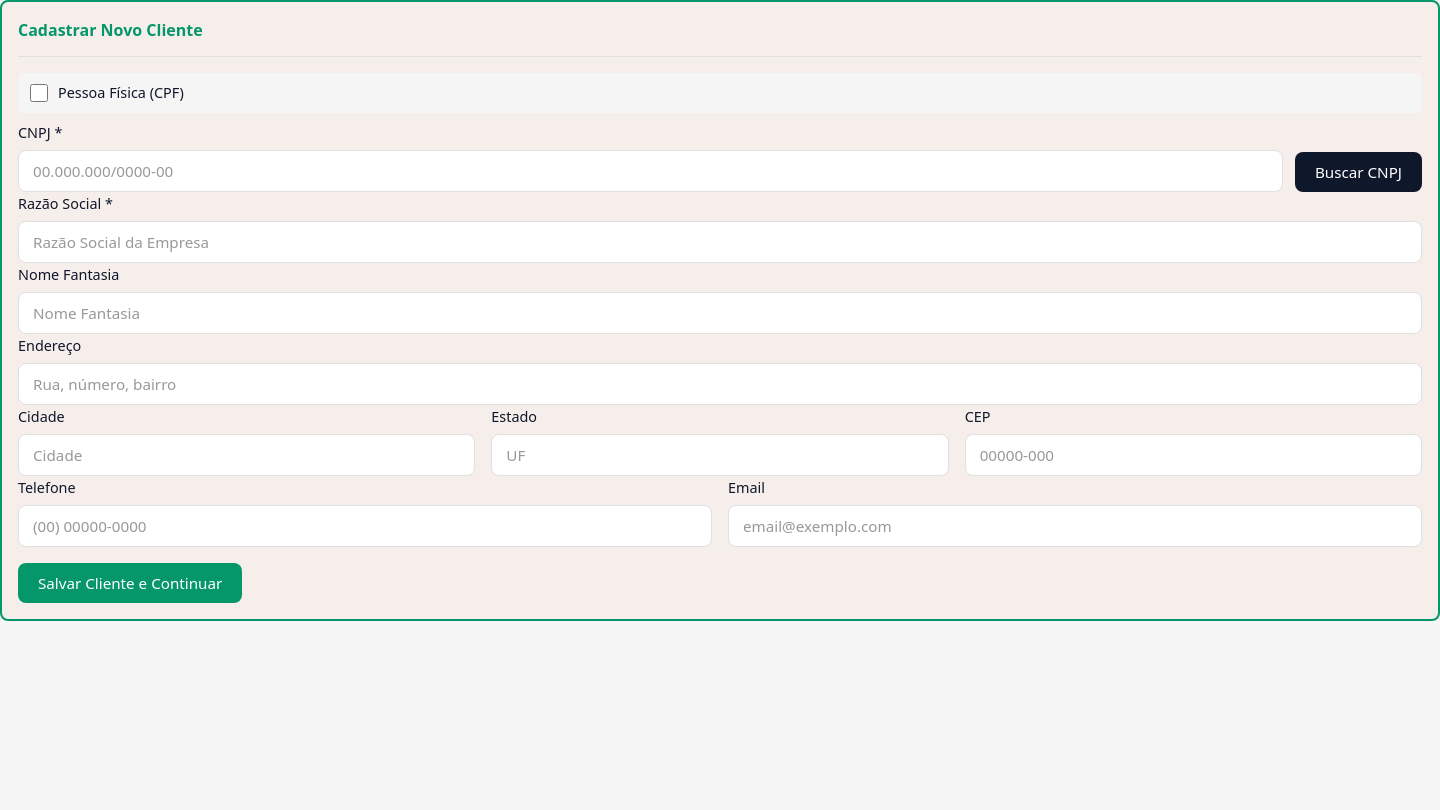
Test: NovoClienteForm › Buscar CNPJ › deve buscar e preencher dados do CNPJ em maiusculas
Type "12345678000190" into the field labelled "CNPJ *" at x=650, y=171, box top-left (18, 150), bottom-right (1283, 192)
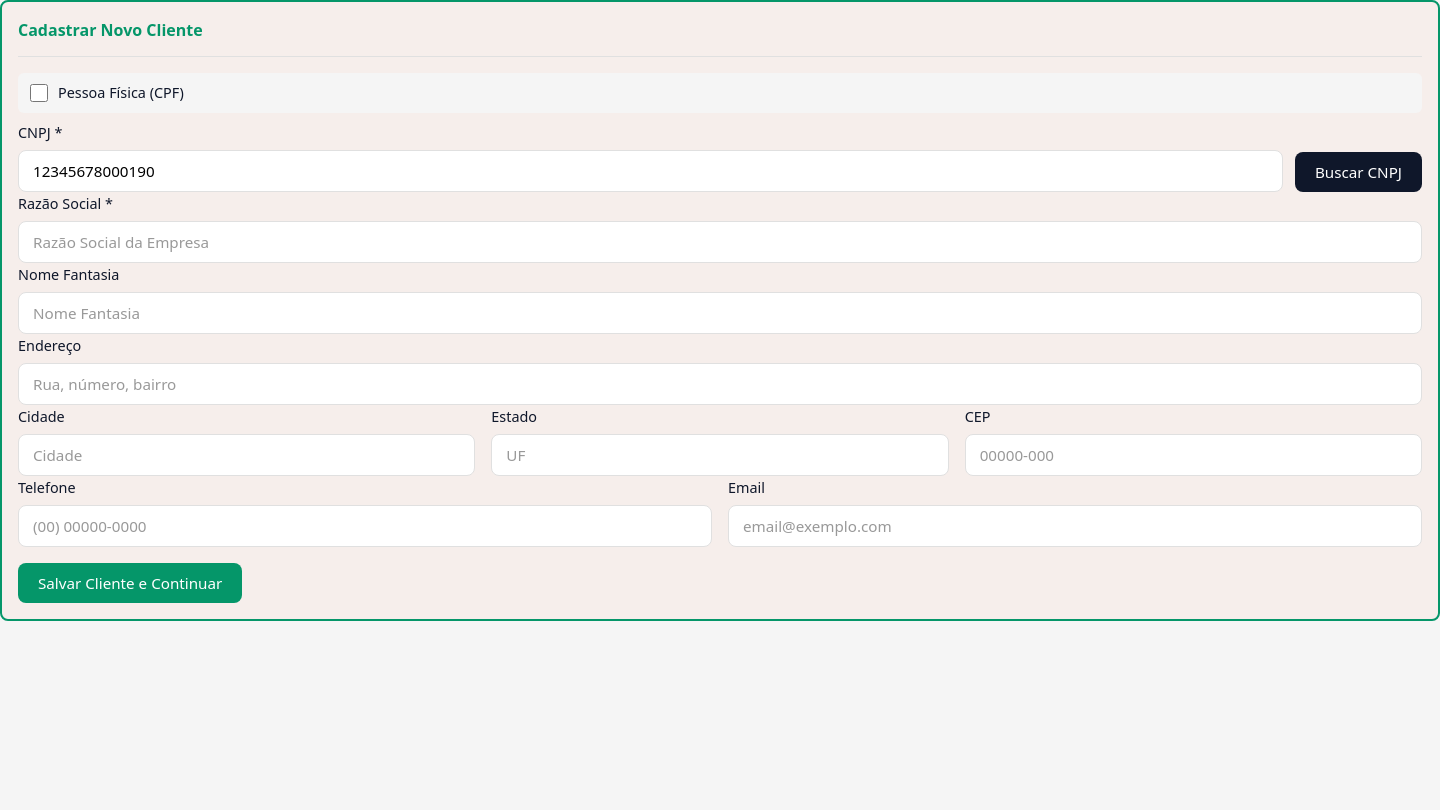
Click the button "Buscar CNPJ" at x=1358, y=172, box top-left (1295, 152), bottom-right (1422, 192)
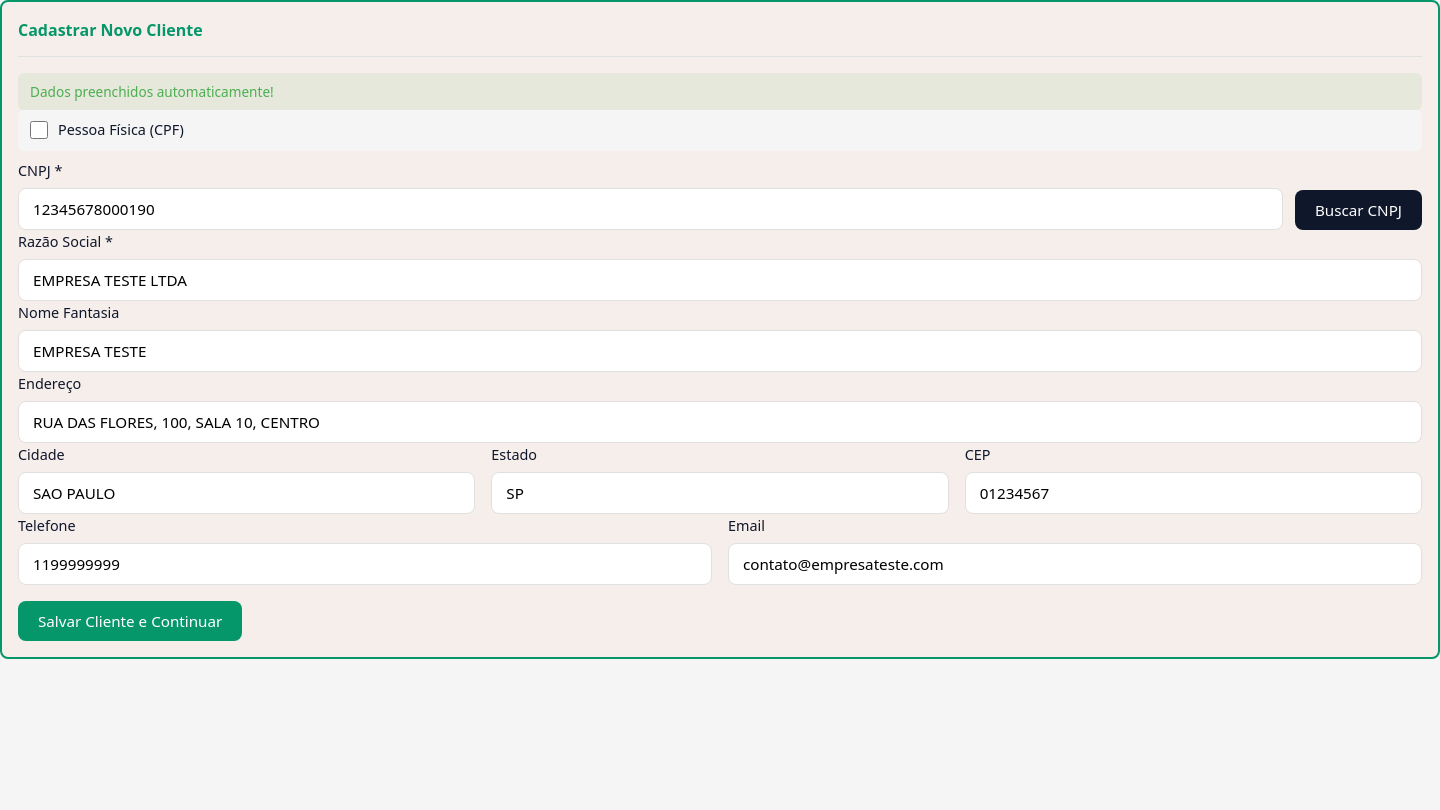
Now the text "Dados preenchidos automaticamente!" is shown, box top-left (18, 73), bottom-right (1422, 110)
Now the field showing "EMPRESA TESTE LTDA" is shown, box top-left (18, 259), bottom-right (1422, 301)
Now the field showing "EMPRESA TESTE" is shown, box top-left (18, 330), bottom-right (1422, 372)
